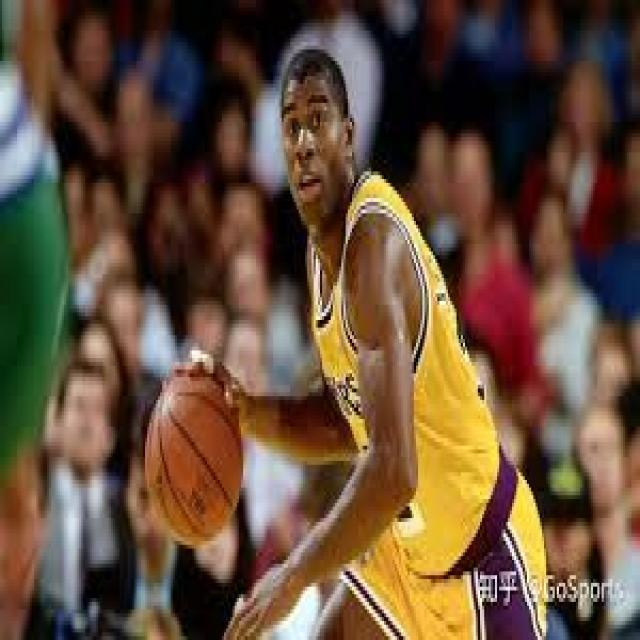rim: (147, 369, 241, 541)
